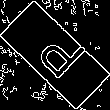P_SW: (24, 24, 86, 86)
